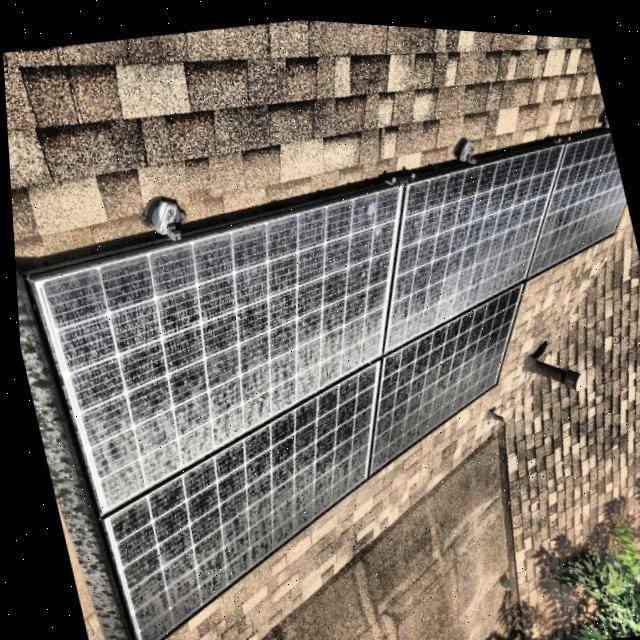Anomaly Solar Panel: (32, 123, 625, 640)
Surface Contaminant: (40, 124, 623, 504), (106, 276, 519, 640)
